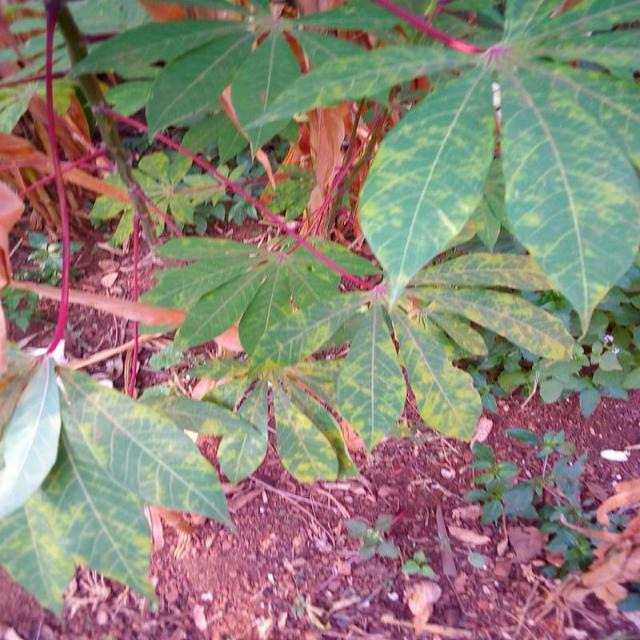cassava leaf: (2, 353, 239, 618), (498, 59, 640, 340), (357, 61, 501, 311), (336, 301, 408, 453)
